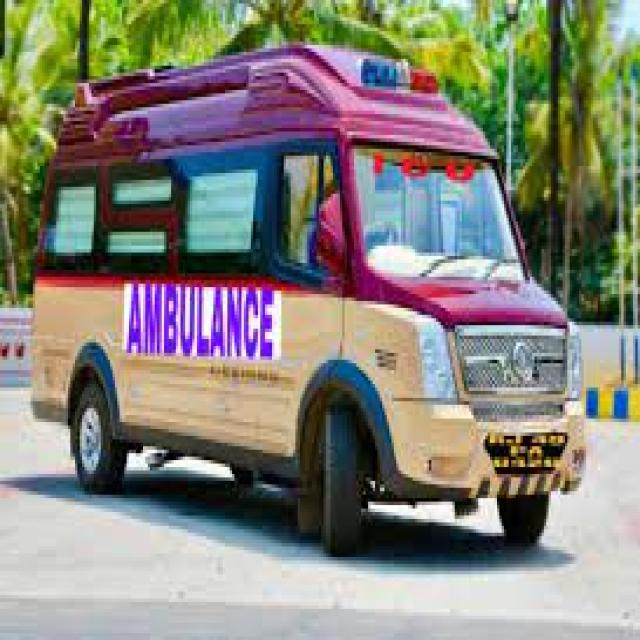Ambulance: (36, 16, 595, 544)
